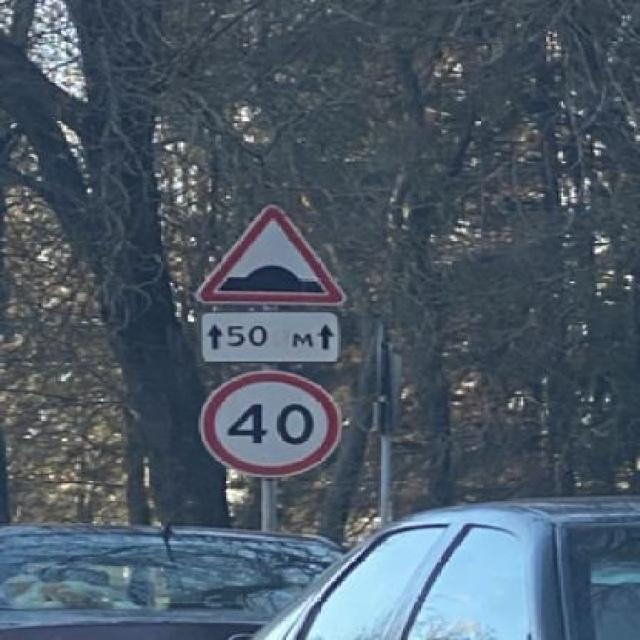forb_speed_over_40: (205, 373, 343, 475)
